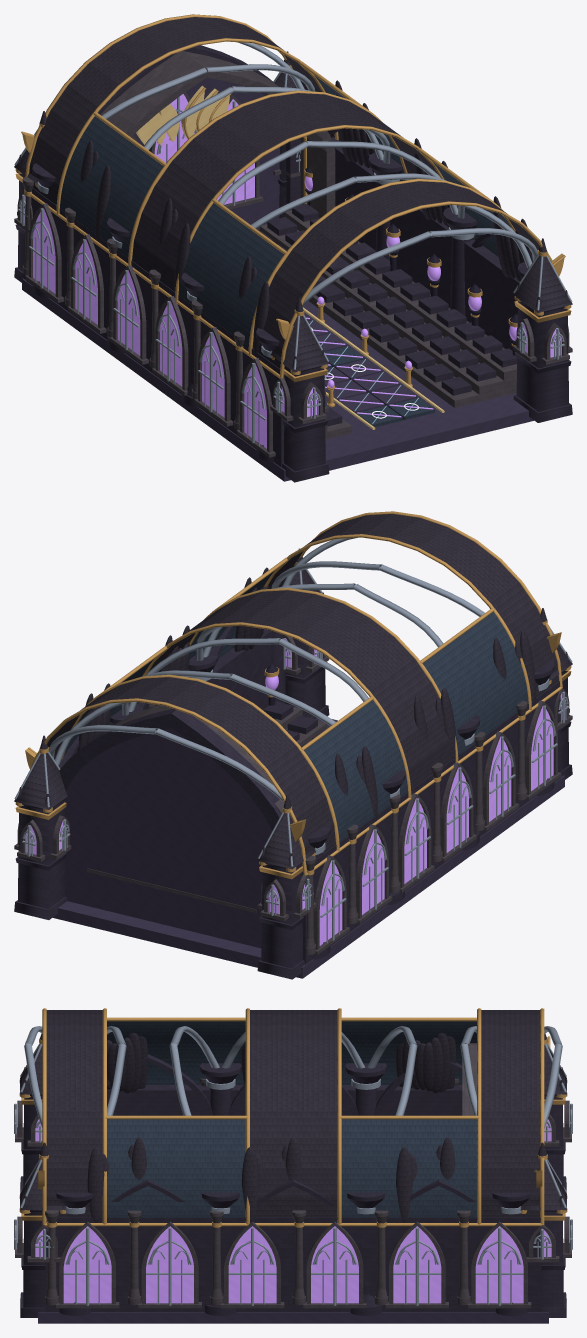
File: meterworks-stage.glb
3 views of the same model, one above another, from view 1: azimuth 30°, elevation 25°; view 2: azimuth 150°, elevation 25°; view 3: azimuth 270°, elevation 25° (orthographic). The views are drawn at different scales.
Parts seen in each view (by area): view 1: Meterworks Stage; view 2: Meterworks Stage; view 3: Meterworks Stage.
Boxes of the visible parts, box(x1,y1,x2,y2) form: Meterworks Stage: box(14, 14, 572, 482); Meterworks Stage: box(14, 511, 572, 979); Meterworks Stage: box(14, 1008, 572, 1323).
Bounding box in the file's own units: 17.32 × 13.5 × 29.31.
Materials: 13 (12 with a texture image).
